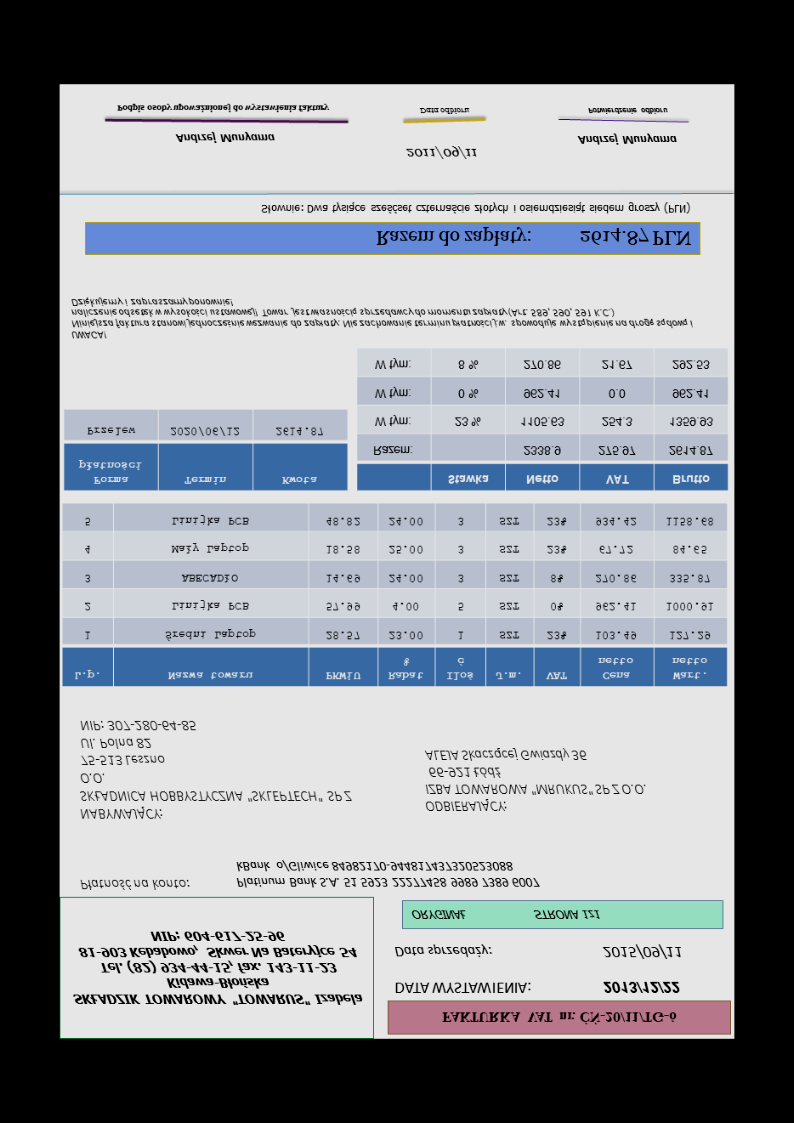Table: (60, 502, 728, 688), (354, 344, 730, 494), (62, 408, 349, 492)
TextBox: (77, 717, 355, 825), (69, 296, 698, 343), (71, 927, 367, 1010), (422, 745, 648, 816), (233, 857, 542, 891), (258, 197, 692, 219), (374, 224, 693, 252), (438, 1008, 678, 1028), (409, 906, 602, 926), (391, 978, 530, 1000), (114, 102, 331, 115), (392, 942, 494, 962), (77, 876, 190, 894), (171, 130, 280, 146), (600, 942, 683, 963), (576, 131, 678, 147), (600, 978, 682, 997), (402, 145, 479, 162), (585, 105, 668, 117), (417, 103, 472, 118)
